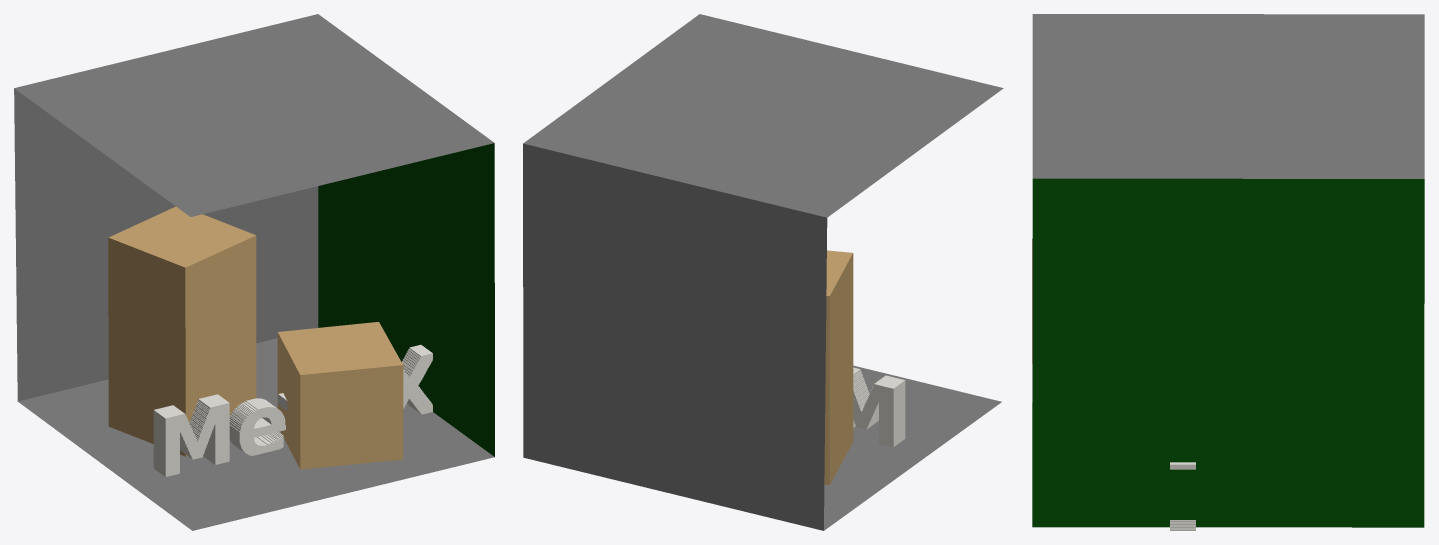
The model's file is cornell_metax.obj.
3 views of the same model, side by side, from view 1: azimuth 30°, elevation 25°; view 2: azimuth 150°, elevation 25°; view 3: azimuth 270°, elevation 25° (orthographic). The views are drawn at different scales.
Parts seen in each view (by area): view 1: cornell_metax; view 2: cornell_metax; view 3: cornell_metax.
Boxes of the visible parts, x1=… form: cornell_metax: x1=14, y1=14, x2=494, y2=530; cornell_metax: x1=523, y1=14, x2=1003, y2=530; cornell_metax: x1=1032, y1=14, x2=1424, y2=530.
Bounding box in the file's own units: 5.65 × 5.53 × 5.6.
